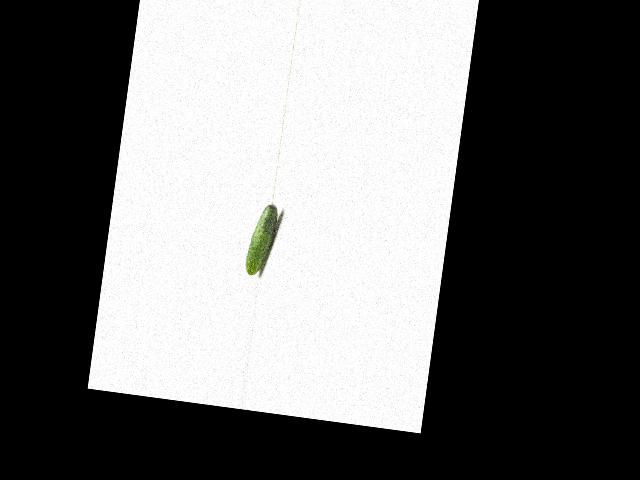cucumber: (244, 200, 279, 277)
